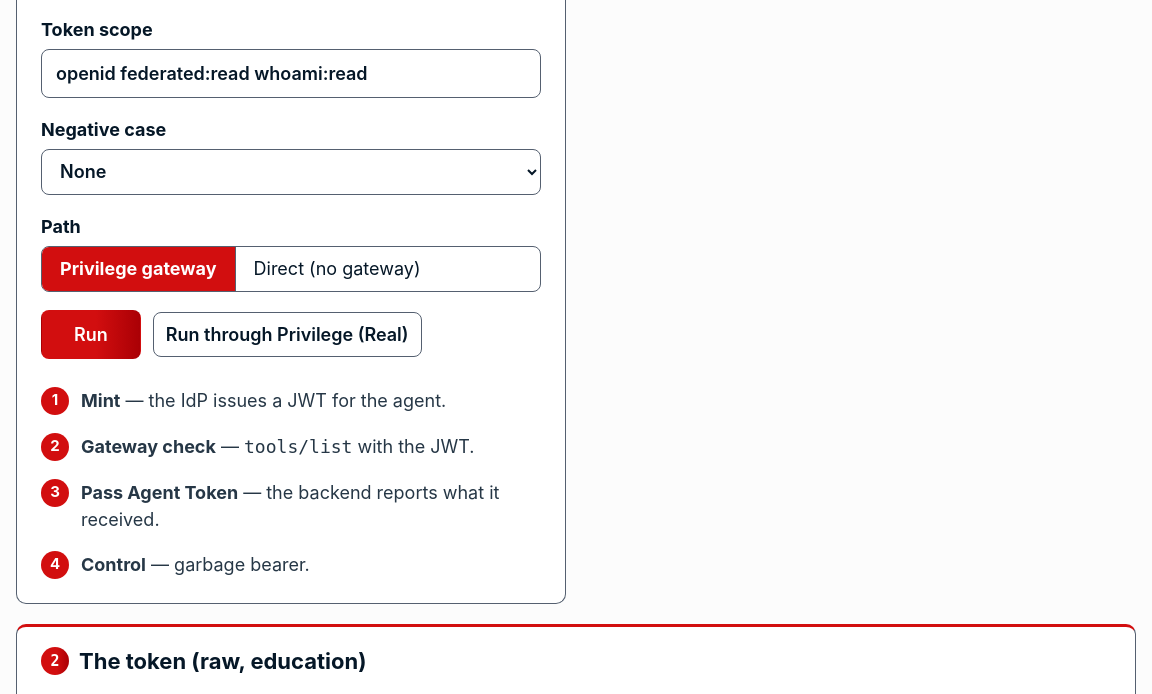
Test: Workload Identity Lab › the Real button › not connected: the button opens the form, prefilled, with an empty secret, and nothing runs
(page scrolled)
Click the button with test id "real-btn": coordinates (287, 334) x1=153 y1=312 x2=422 y2=357
(page scrolled)
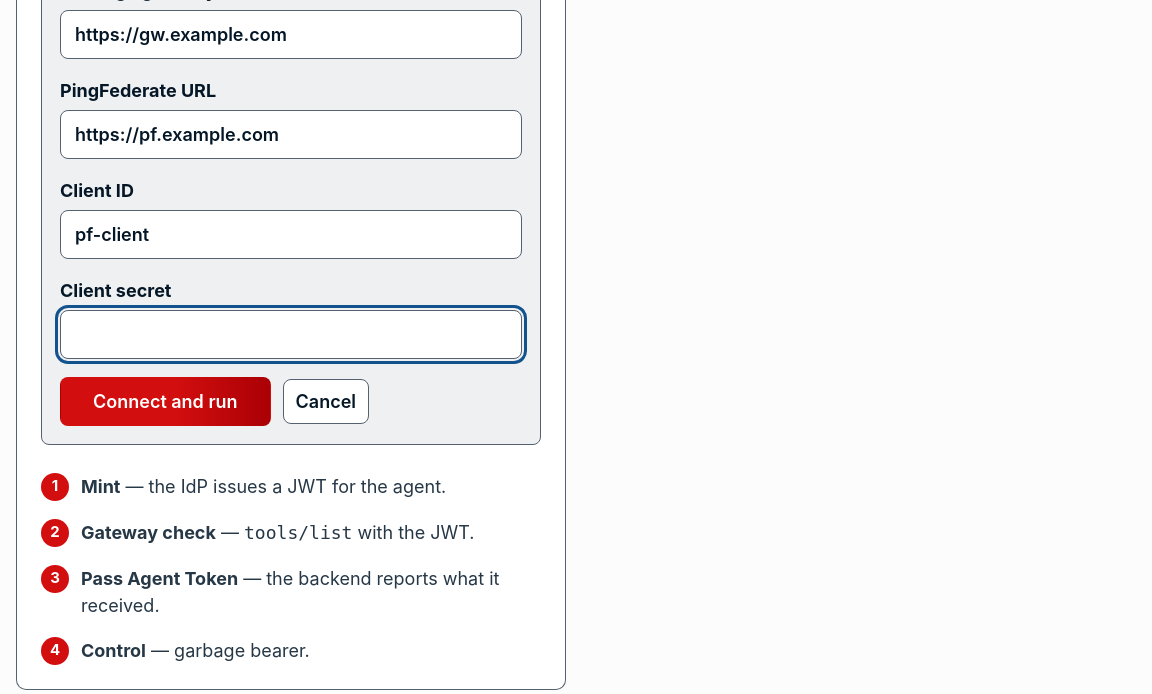
expect the field with test id "connect-gateway" holds "https://gw.example.com": met, box x1=60 y1=10 x2=522 y2=59
expect the field with test id "connect-pf" holds "https://pf.example.com": met, box x1=60 y1=110 x2=522 y2=159
expect the field with test id "connect-client" holds "pf-client": met, box x1=60 y1=210 x2=522 y2=259
